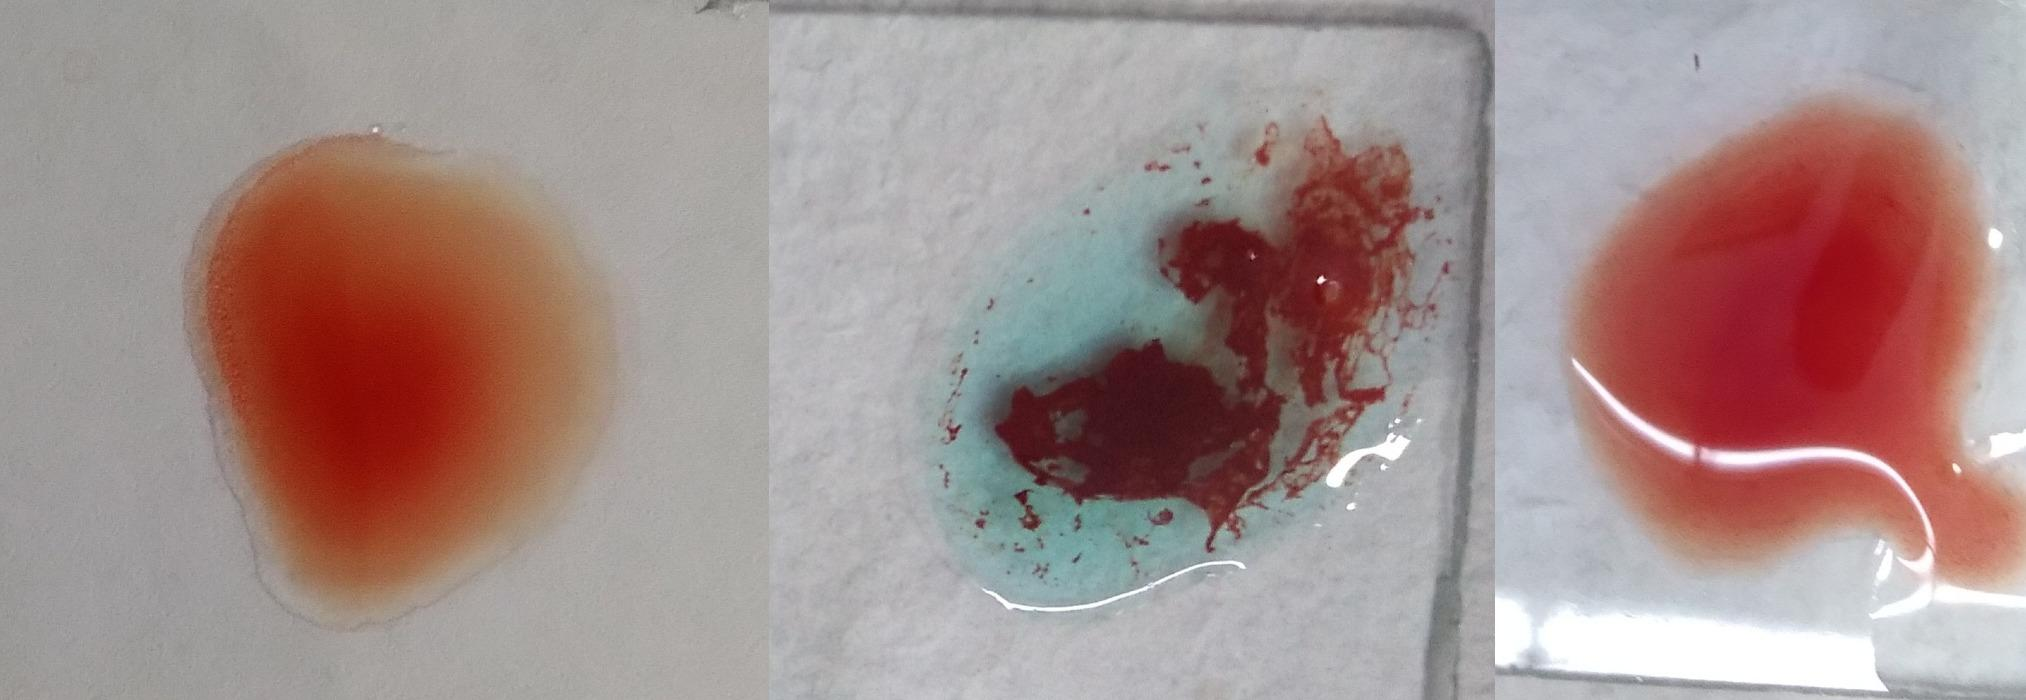A: (938, 88, 1450, 625)
